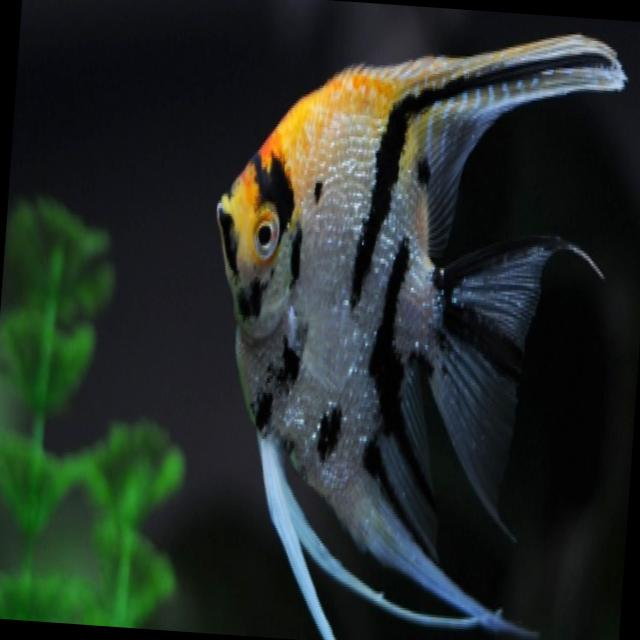AngelFish: (184, 14, 628, 631)
